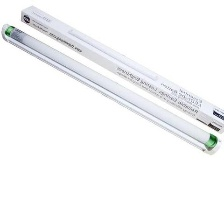book: (15, 3, 224, 136)
light_bulb: (1, 23, 222, 150)
